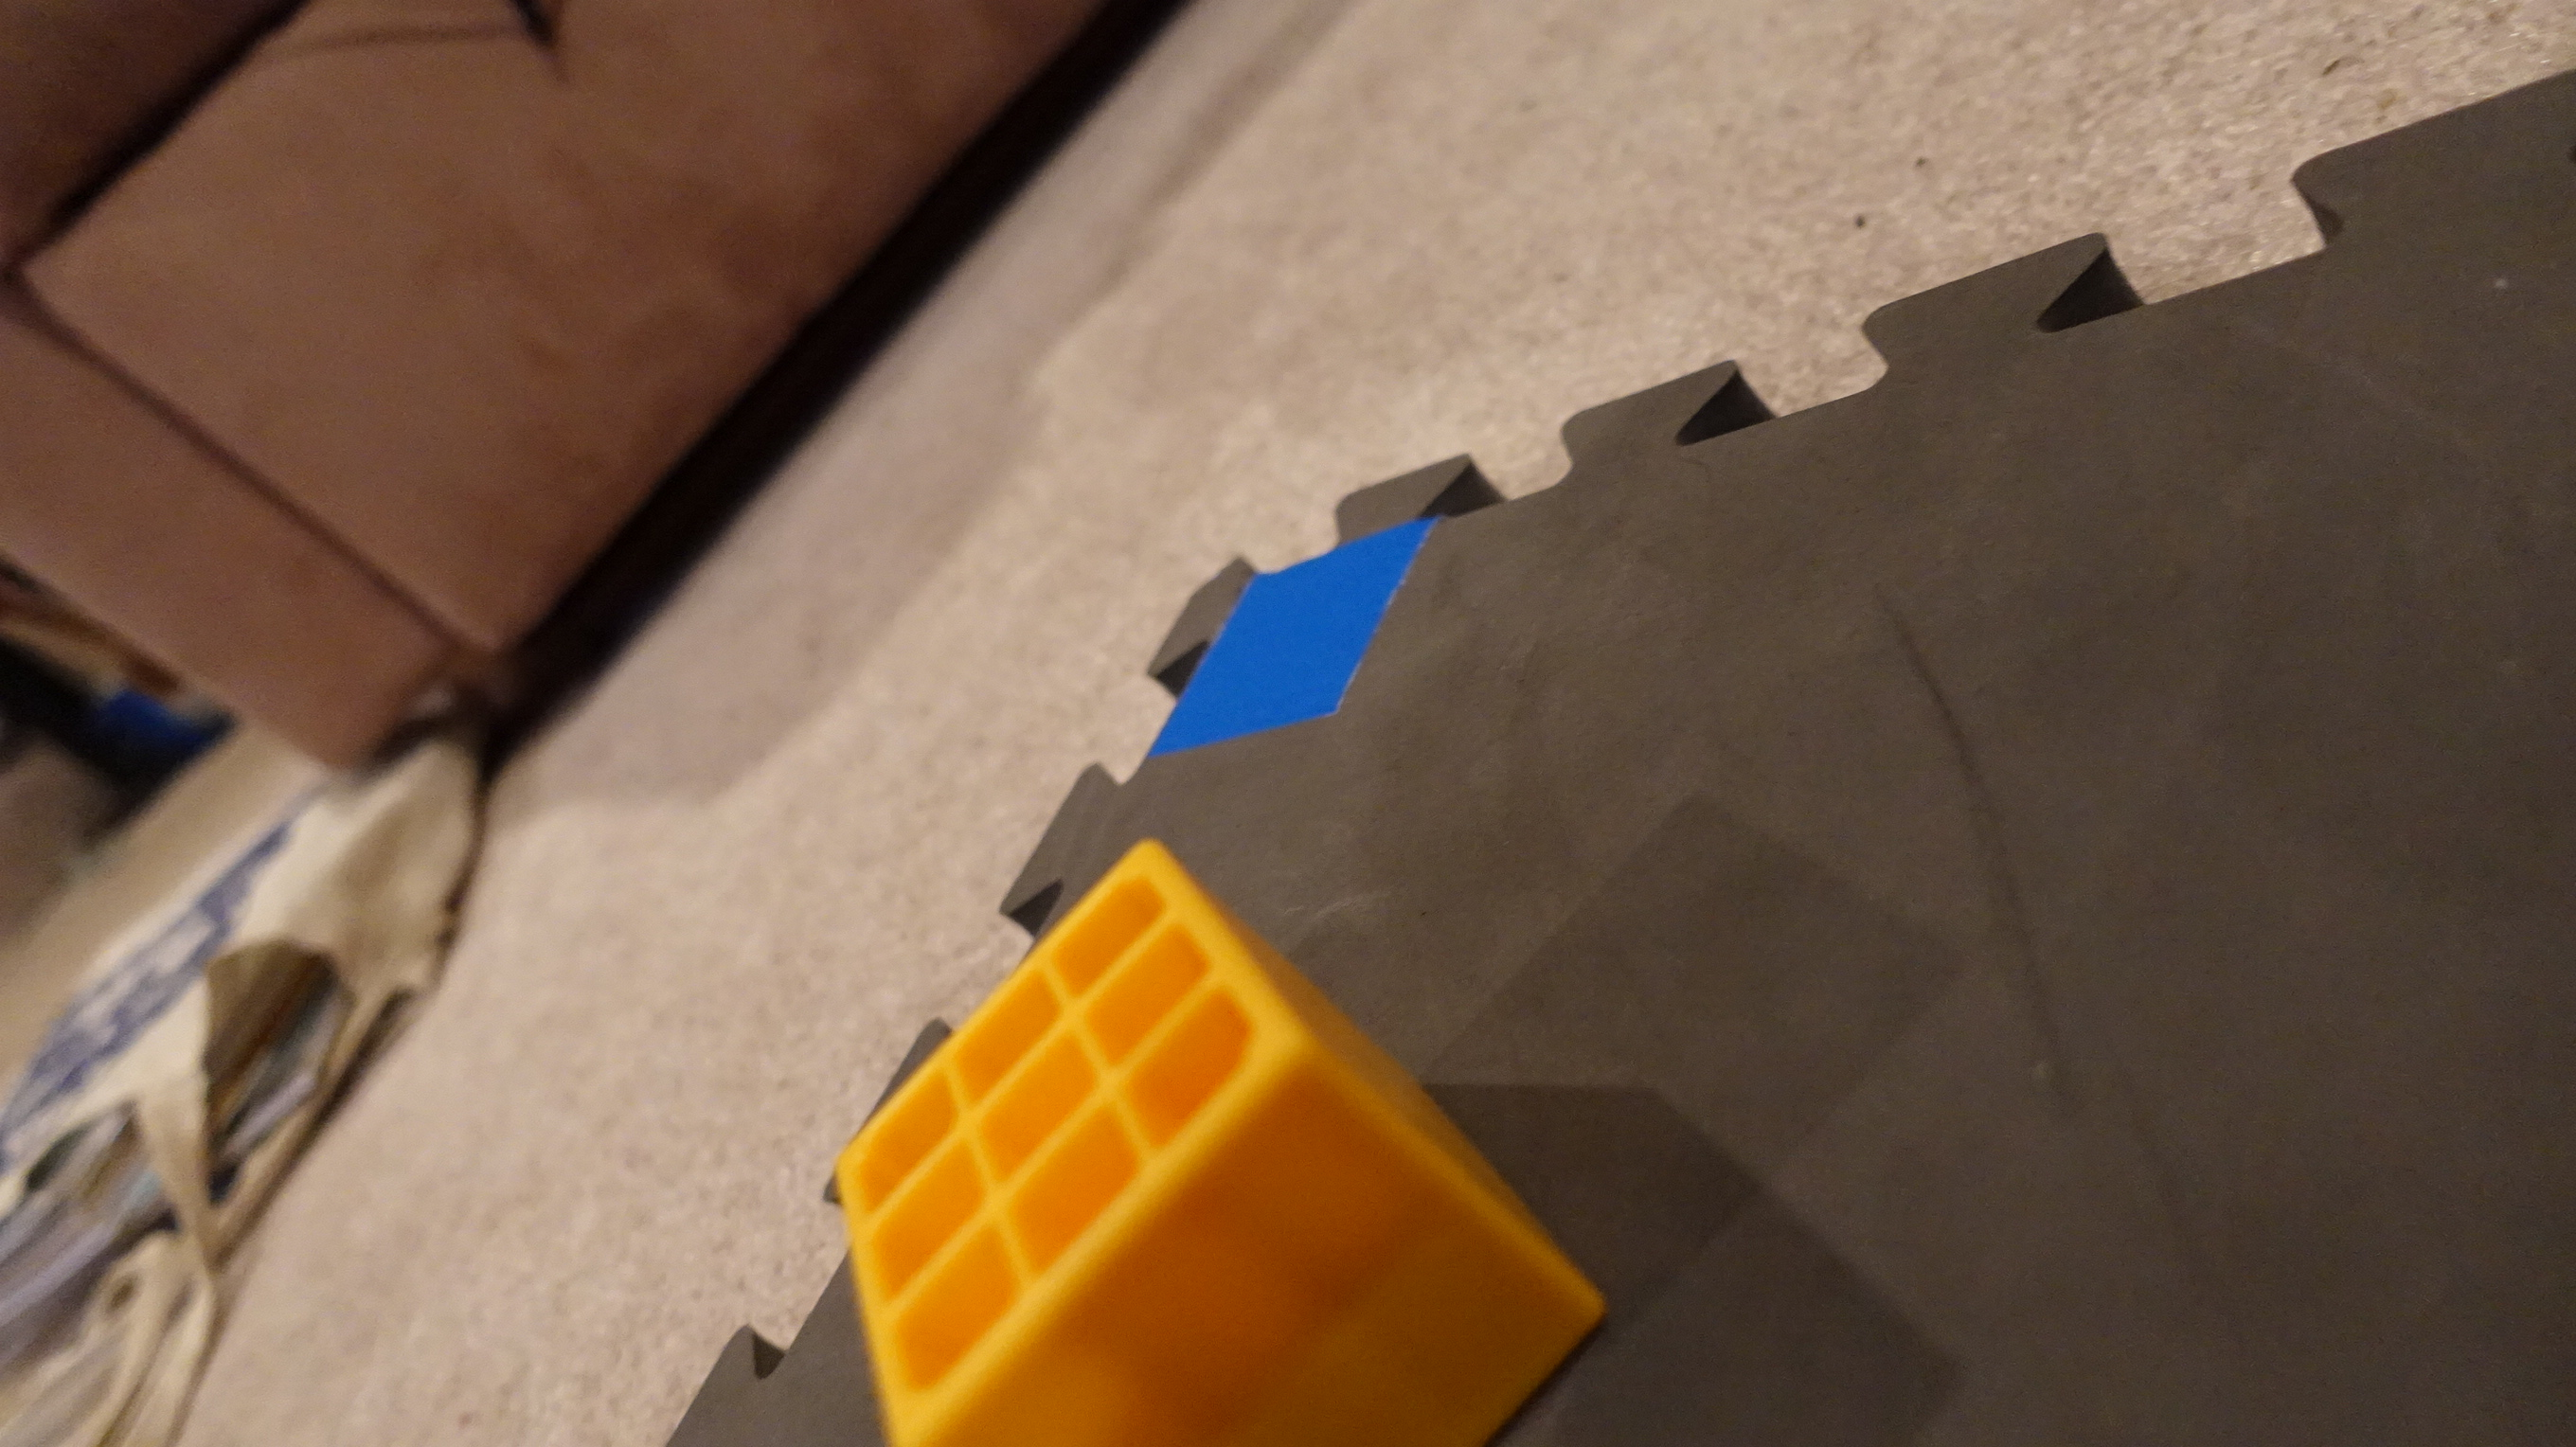gold: (807, 815, 1633, 1445)
